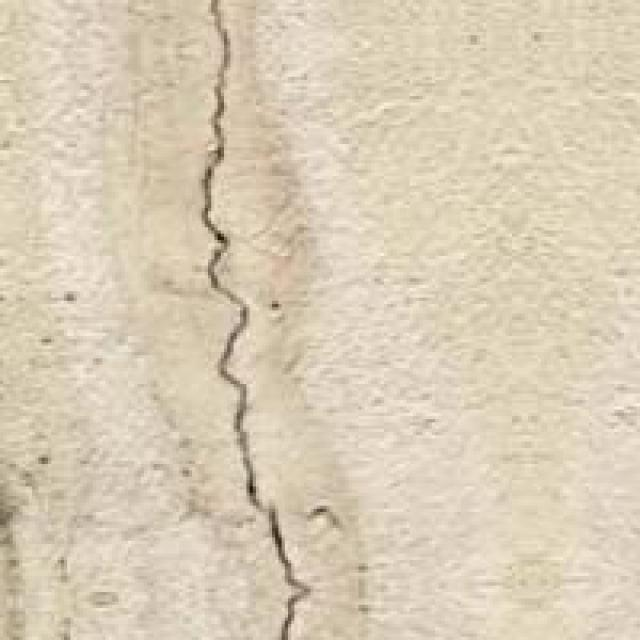Crack: (176, 0, 387, 637)
